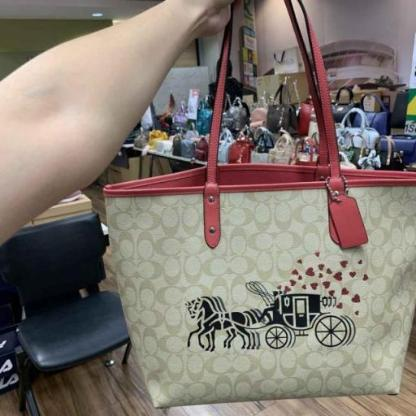bag: (87, 0, 415, 416)
